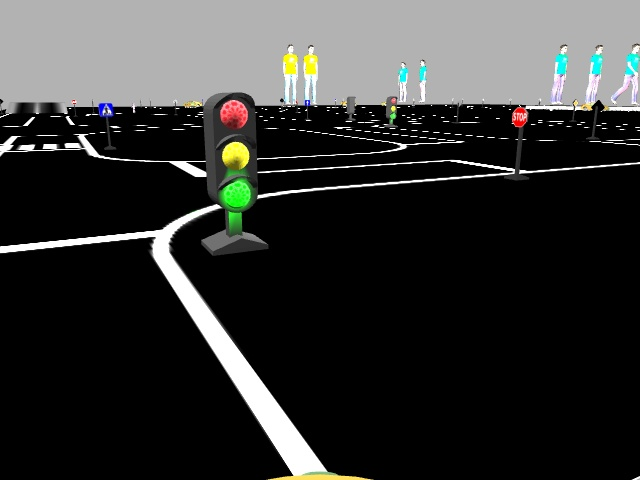Crosswalk: (98, 102, 113, 117)
Stop: (510, 106, 527, 125)
TrafficLight: (207, 88, 256, 218)
